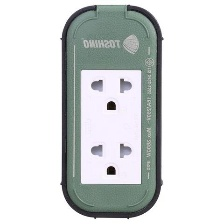three_eye_plug: (55, 0, 168, 221)
